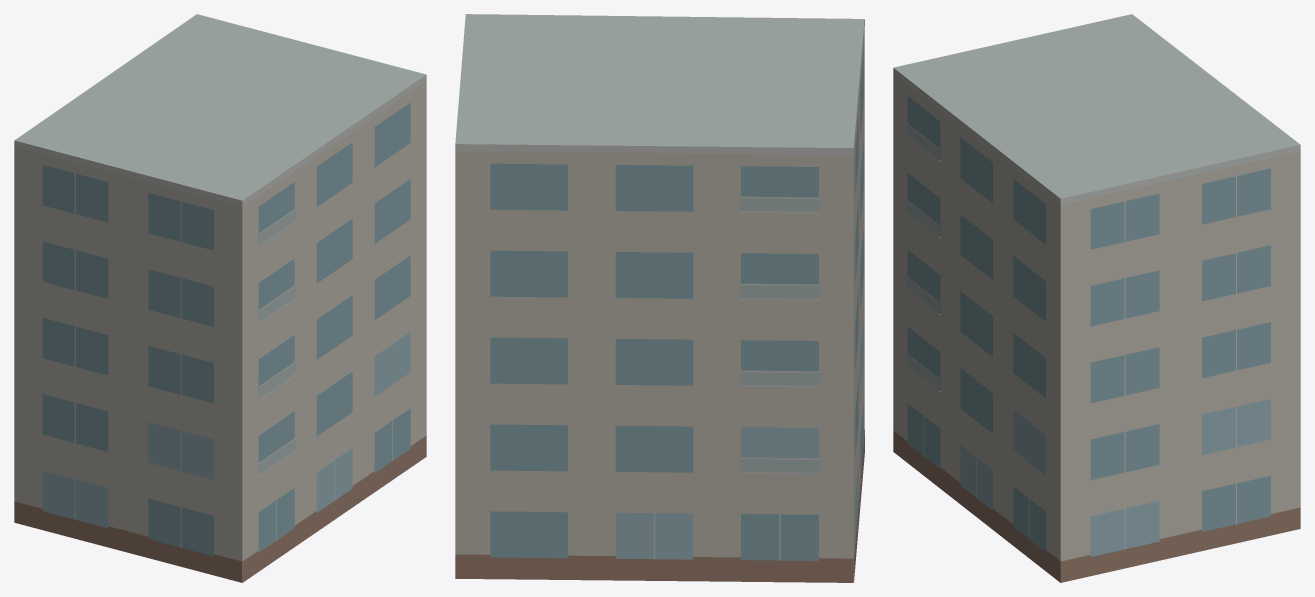
Rendered from survey-upis-32939897.glb.
The picture shows the model from 3 angles, left to right: view 1: azimuth 30°, elevation 25°; view 2: azimuth 150°, elevation 25°; view 3: azimuth 270°, elevation 25°; orthographic projection. The views are drawn at different scales.
Visible parts, largest first — view 1: survey-upis-32939897.tmp; view 2: survey-upis-32939897.tmp; view 3: survey-upis-32939897.tmp.
Part boxes in pixels (x1,y1,x2,y2): survey-upis-32939897.tmp: (14,14,426,582); survey-upis-32939897.tmp: (455,14,864,582); survey-upis-32939897.tmp: (893,14,1300,582).
Bounding box in the file's own units: 15.59 × 15.1 × 14.52.
